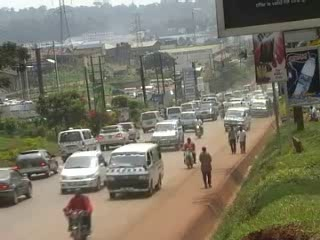Car: (57, 150, 108, 193), (0, 161, 38, 206), (14, 145, 61, 179), (150, 119, 184, 152), (96, 121, 130, 149), (116, 119, 142, 142), (194, 102, 217, 124)
Motorcycle: (58, 188, 100, 236), (177, 133, 199, 167), (191, 116, 205, 136)
